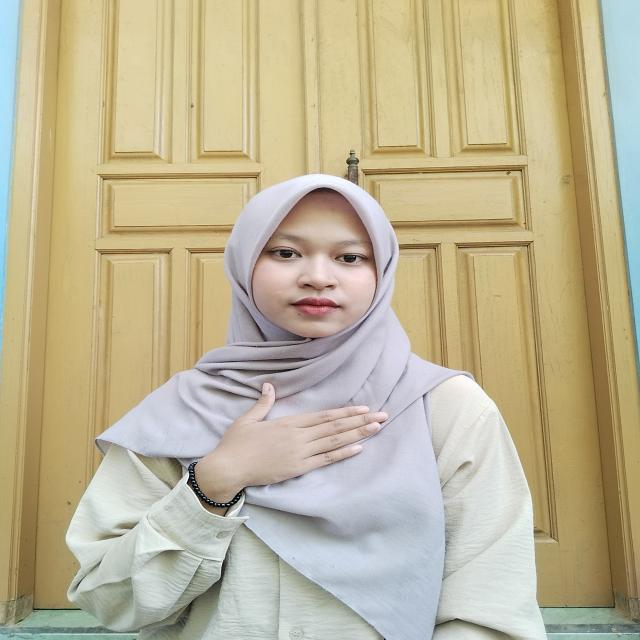tolong: (178, 379, 390, 511)
